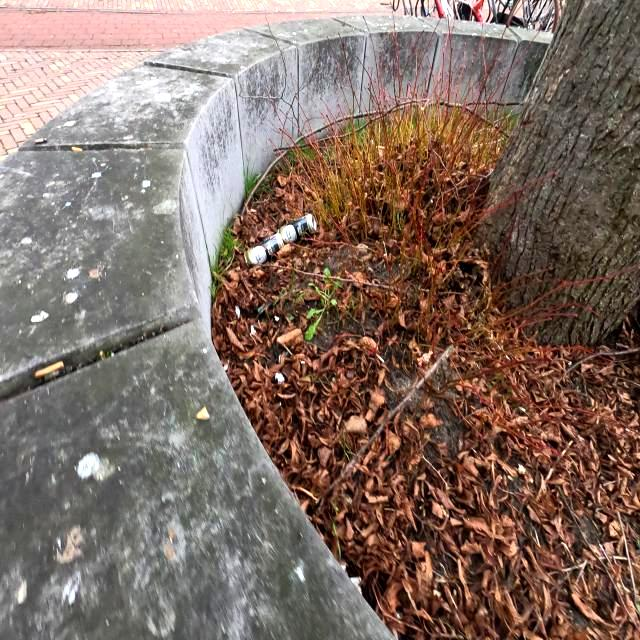Metal: (243, 232, 285, 270), (277, 213, 317, 247)
